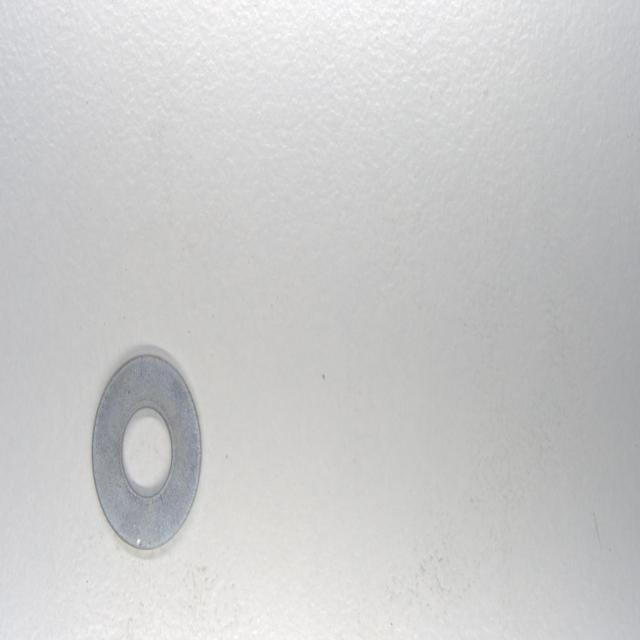washer: (89, 347, 205, 557)
